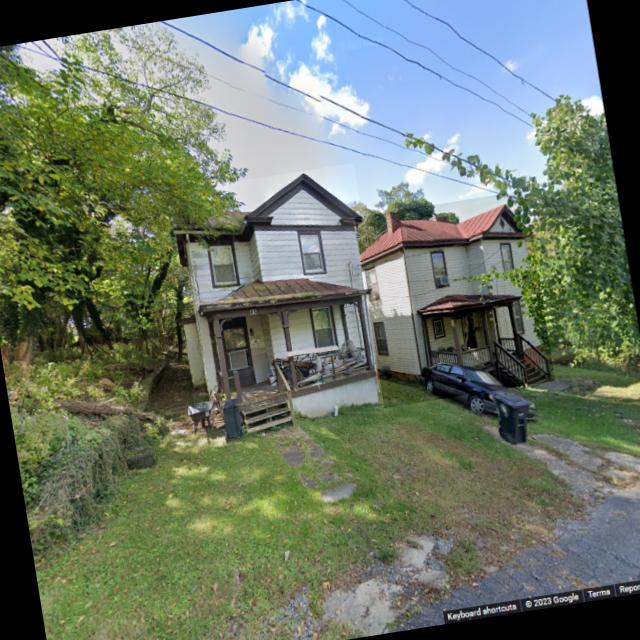House: (162, 163, 394, 449), (354, 190, 556, 408)
